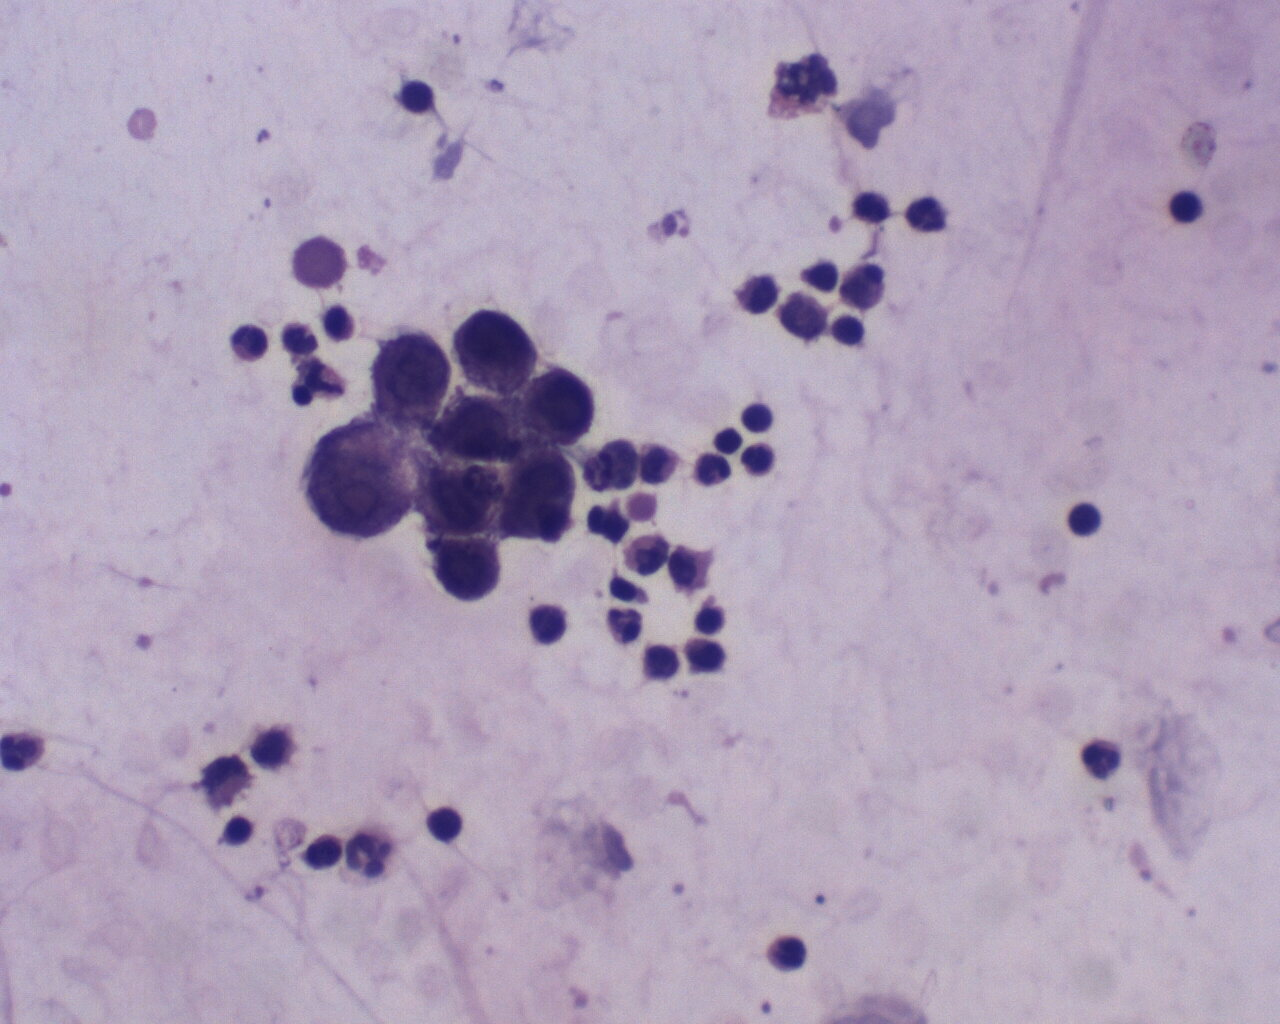ab: (301, 411, 418, 548), (365, 326, 450, 428), (496, 447, 579, 549), (455, 307, 537, 396), (519, 366, 600, 452), (421, 530, 505, 610)
lymph: (422, 802, 471, 847), (1062, 501, 1106, 543), (1165, 186, 1207, 229), (399, 74, 439, 115), (738, 398, 781, 436), (691, 603, 735, 636), (829, 313, 867, 351), (222, 814, 256, 850)
neutro: (902, 189, 951, 238), (1079, 737, 1128, 783), (690, 447, 737, 494), (1, 729, 49, 775)
